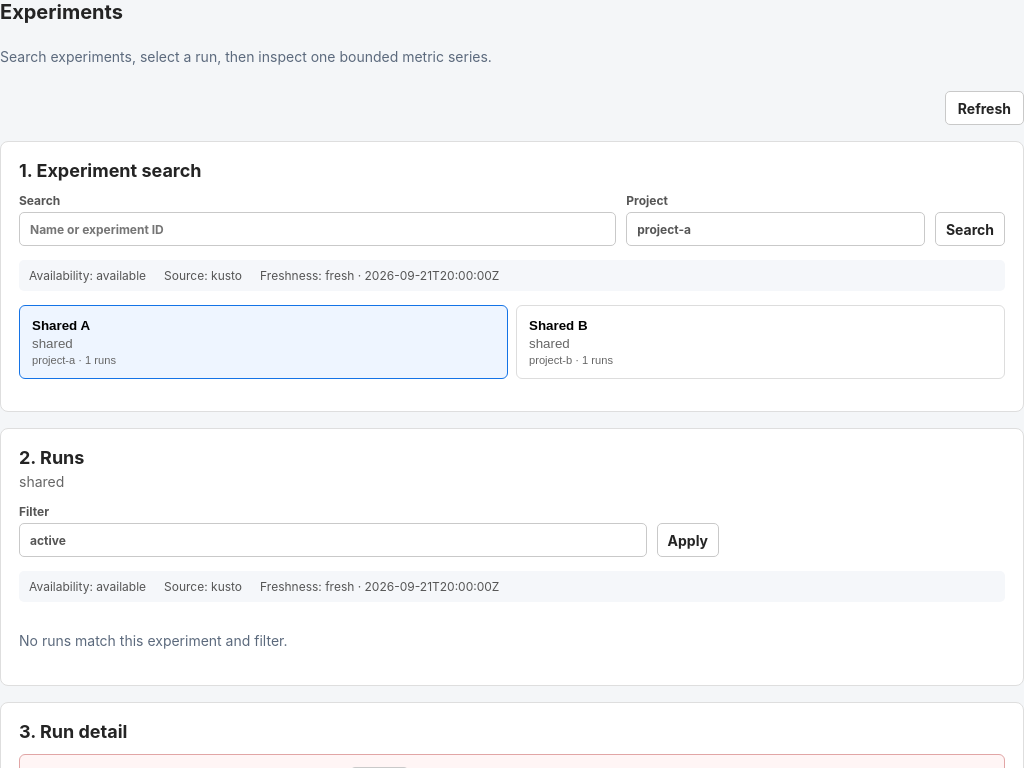
Test: typed experiment dashboard › clears dependent state when the project changes for the same experiment ID
Step 1. Click the button "Shared B shared project-b · 1 runs" → (558, 326), box [516,305,1005,379]
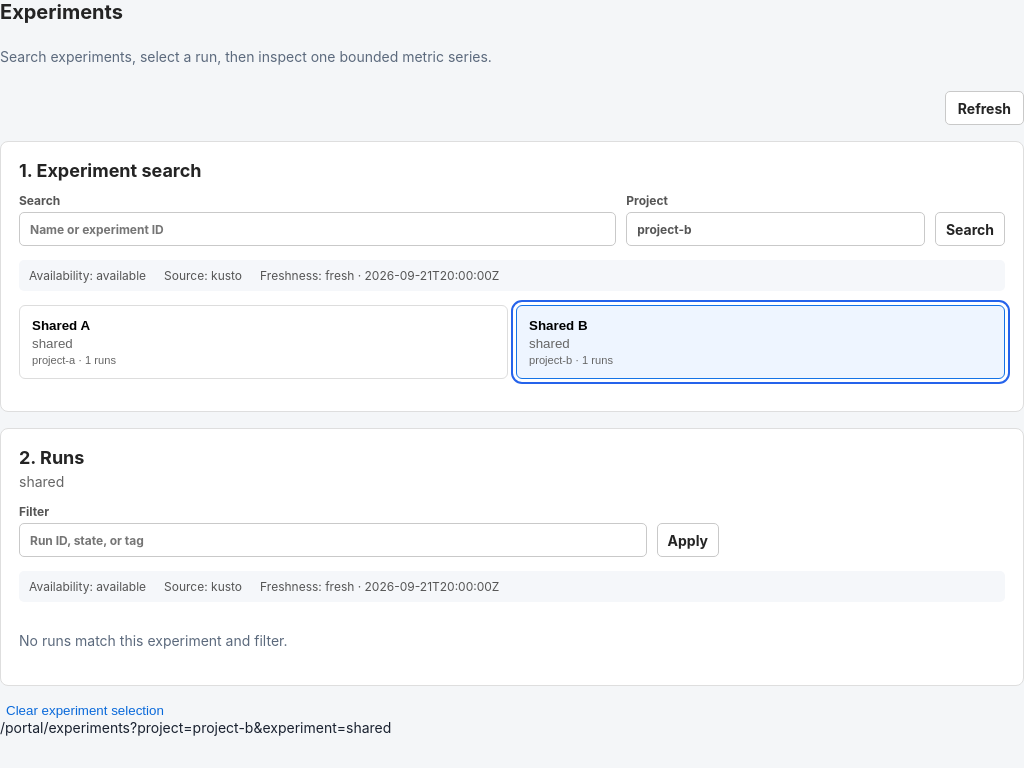
Check: the text named "location" shows "experiment=shared", box [0,719,391,736]
Check: the text named "location" shows "project=project-b", box [0,719,391,736]
